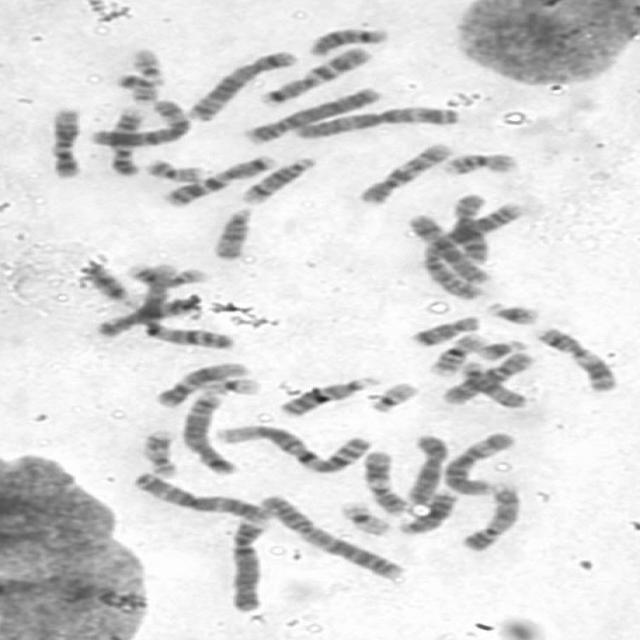A1: (125, 260, 237, 352), (209, 421, 375, 474)
A2: (256, 492, 408, 582), (413, 199, 525, 303)
A3: (128, 469, 272, 523), (289, 104, 459, 140)
B4: (239, 84, 383, 145), (223, 516, 271, 613)
B5: (181, 48, 299, 122), (176, 389, 238, 475)
C10: (352, 138, 455, 206), (436, 347, 534, 406)
C11: (530, 324, 619, 393), (359, 447, 410, 515)
C12: (149, 358, 250, 410), (45, 105, 83, 179)
C6: (85, 97, 194, 148), (440, 429, 520, 497)
C7: (257, 44, 373, 105), (158, 152, 280, 208)
C8: (90, 295, 205, 338), (445, 190, 490, 266)
C9: (458, 482, 522, 552), (105, 106, 150, 177)
D13: (272, 372, 383, 418), (396, 487, 460, 536)
D14: (236, 153, 320, 205), (303, 25, 389, 57)
D15: (458, 358, 530, 410), (209, 205, 256, 262)
E16: (424, 330, 488, 378), (438, 151, 519, 177)
E17: (120, 261, 210, 287), (138, 428, 180, 478)
E18: (407, 312, 481, 348), (72, 259, 132, 302)
F19: (336, 498, 394, 538), (199, 374, 264, 398)
F20: (140, 156, 205, 185), (111, 72, 158, 102)
G21: (482, 299, 544, 327), (472, 336, 528, 362)
G22: (364, 378, 419, 414), (128, 46, 168, 88)
X: (402, 211, 496, 287), (402, 431, 449, 506)
